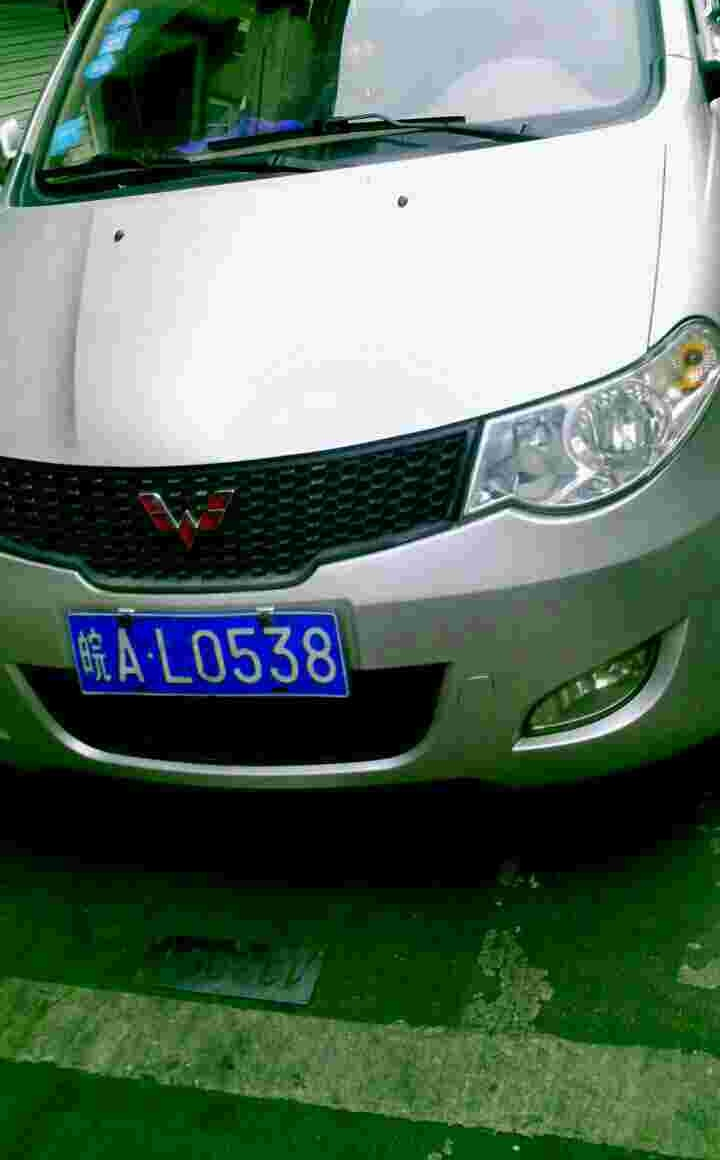license_plate: (66, 602, 356, 705)
